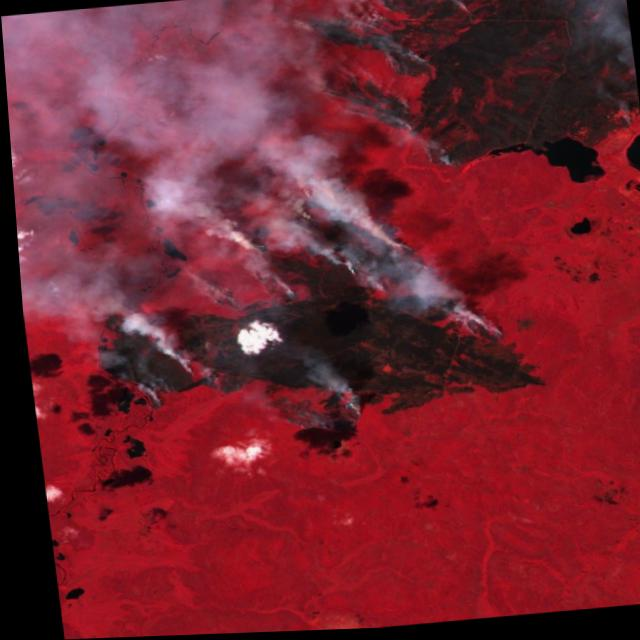fire: (94, 188, 512, 458), (304, 0, 489, 186)
